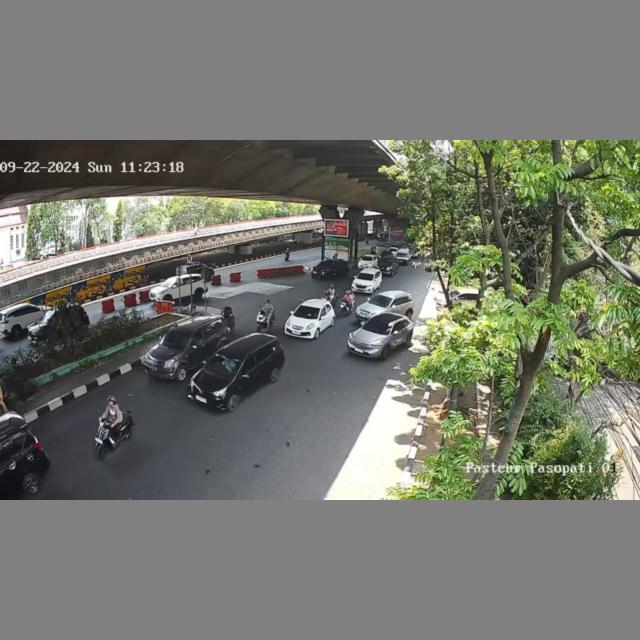windshield: (204, 352, 244, 375), (160, 330, 191, 350), (362, 317, 392, 335), (294, 304, 320, 320), (370, 295, 392, 306), (356, 271, 374, 282)
